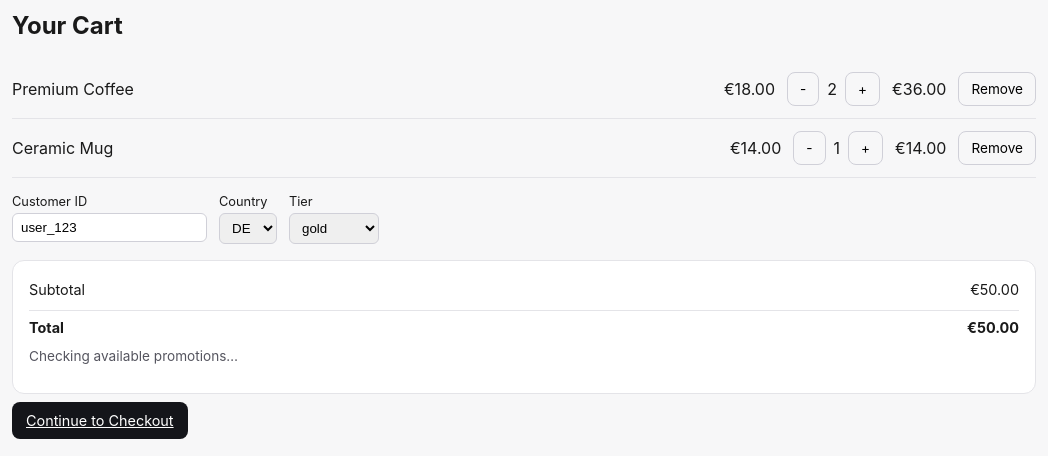
Scenario: CartPage › removes an item from the cart
Expected: the text "Premium Coffee" is shown, [12,79,134,99]
Click the button "Remove" next to "€36.00" at (997, 89), box [958,72,1036,106]
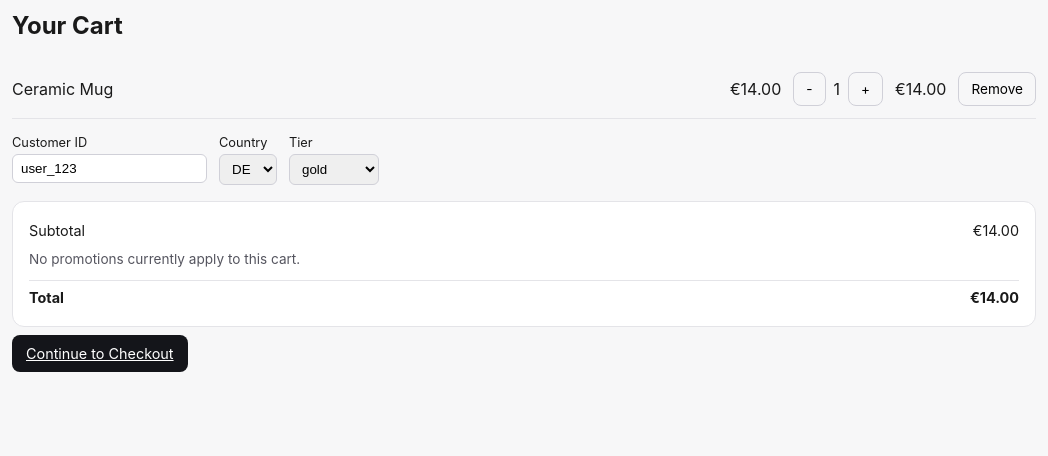
Expected: the text "Premium Coffee" is gone
